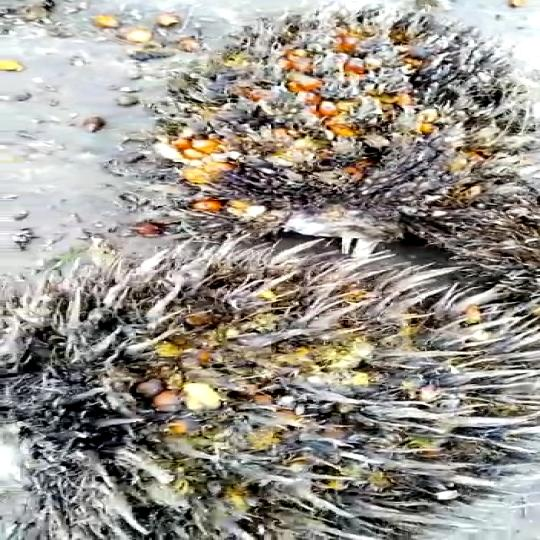terlalu masak: (0, 230, 515, 539), (134, 0, 540, 243)
